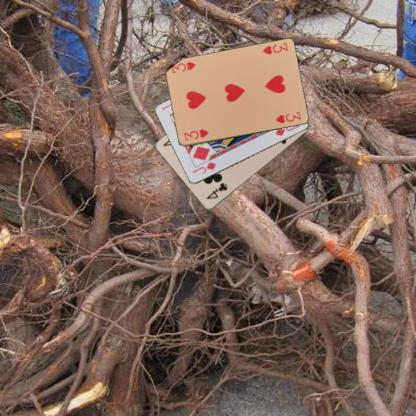3h: (260, 40, 289, 56), (181, 127, 210, 142)
4c: (204, 180, 229, 200)
Jd: (190, 160, 217, 175)
